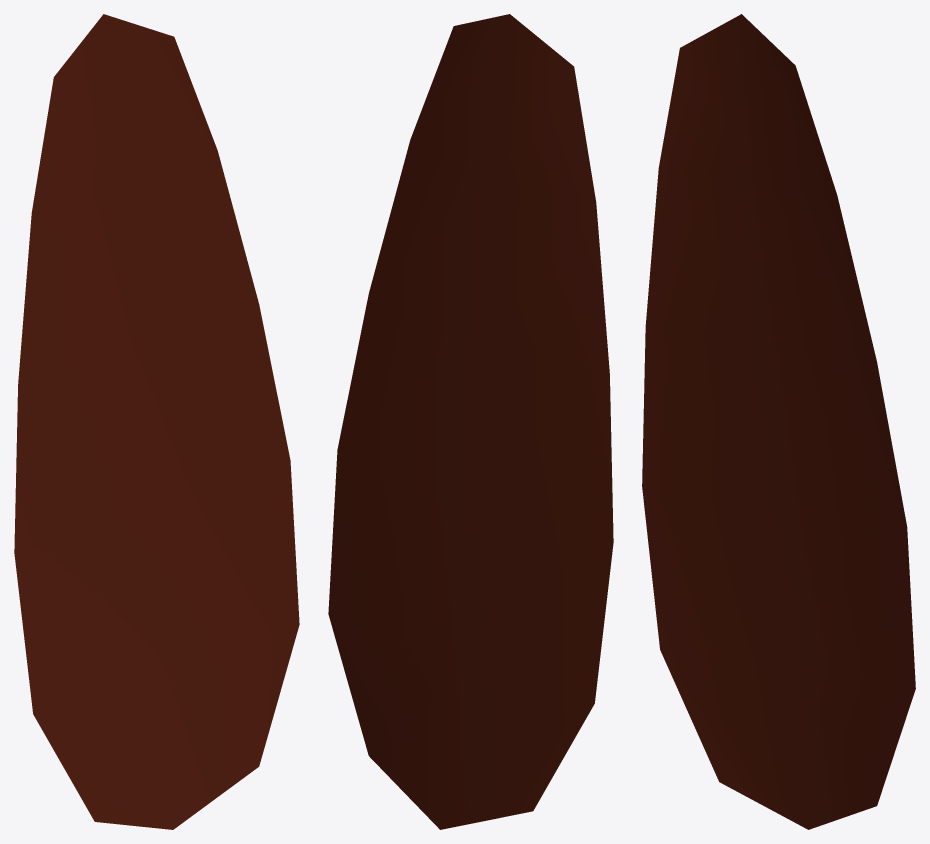
Rendered from finch_feather_flight_tertiary_046.obj.
The picture shows the model from 3 angles, left to right: view 1: azimuth 30°, elevation 25°; view 2: azimuth 150°, elevation 25°; view 3: azimuth 330°, elevation 25°; orthographic projection. The views are drawn at different scales.
Parts seen in each view (by area): view 1: feather_flight_tertiary_046; view 2: feather_flight_tertiary_046; view 3: feather_flight_tertiary_046.
Boxes of the visible parts, x1,y1,x2,y2 form: feather_flight_tertiary_046: (14, 14, 299, 829); feather_flight_tertiary_046: (328, 14, 613, 829); feather_flight_tertiary_046: (642, 14, 915, 829).
Size of the model in its own units: 0.00347 by 0.0097 by 0.000153.
